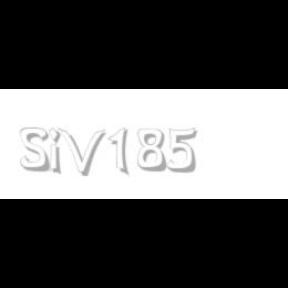1: (108, 128, 130, 176)
5: (166, 128, 198, 174)
8: (138, 128, 166, 172)
S: (20, 128, 50, 172)
V: (58, 128, 106, 176)
i: (48, 128, 64, 176)
